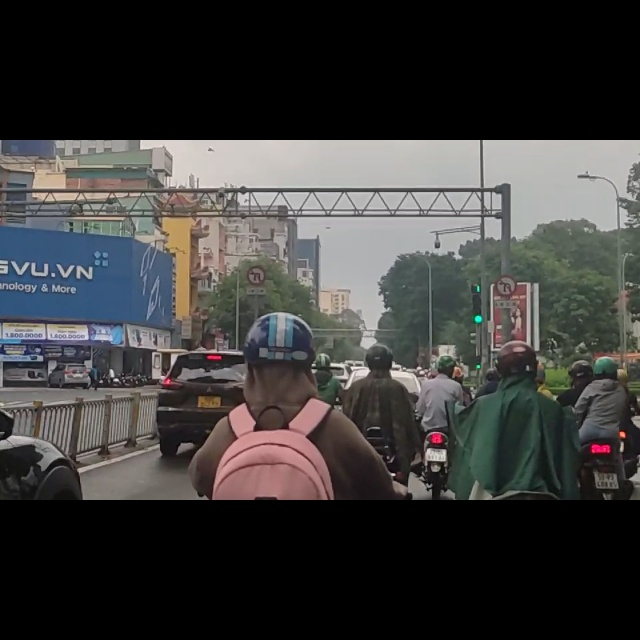bien_cam: (496, 239, 515, 279), (247, 222, 267, 257)
